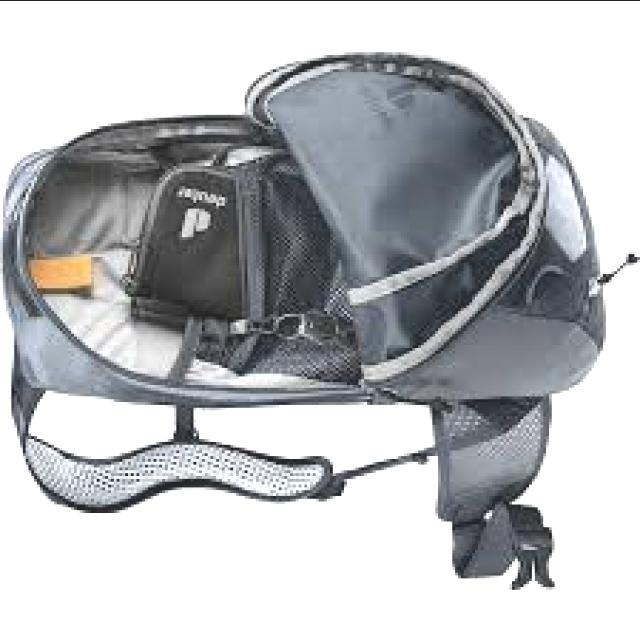backpack: (1, 53, 635, 593)
